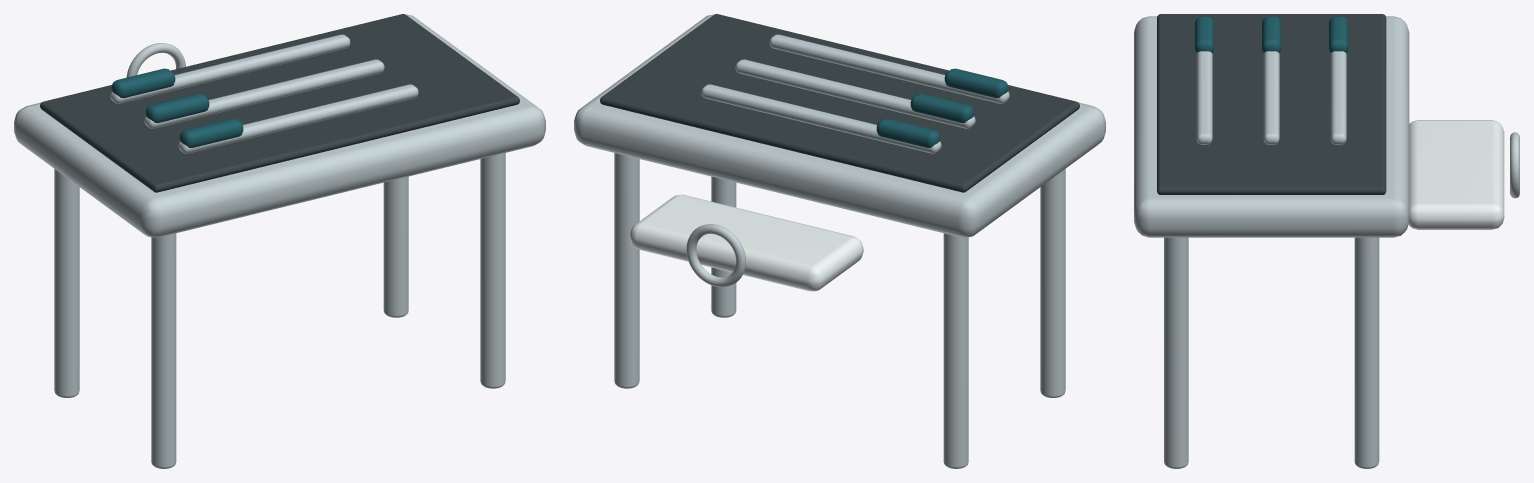
File: Mesa_Instrumental.fbx
3 renders of one model, left to right at view 1: azimuth 30°, elevation 25°; view 2: azimuth 150°, elevation 25°; view 3: azimuth 270°, elevation 25°, orthographic.
Visible parts, largest first — view 1: Alfombrilla_de_silicona, Bandeja_de_instrumental, Pata_de_mesa, Pata_de_mesa_Parte_03, Pata_de_mesa_Parte_02, Pata_de_mesa_Parte_04, Pinza_hemostatica, Bisturi_de_mesa, Tijeras_quirurgicas, Mango_de_Tijeras_quirurgicas, Mango_de_Bisturi_de_mesa, Mango_de_Pinza_hemostatica (+1 smaller); view 2: Alfombrilla_de_silicona, Bandeja_de_instrumental, Bandeja_auxiliar, Pata_de_mesa_Parte_02, Pata_de_mesa_Parte_04, Pata_de_mesa, Pinza_hemostatica, Bisturi_de_mesa, Tijeras_quirurgicas, Asa_de_bandeja, Pata_de_mesa_Parte_03, Mango_de_Bisturi_de_mesa (+2 smaller); view 3: Alfombrilla_de_silicona, Bandeja_de_instrumental, Bandeja_auxiliar, Pata_de_mesa_Parte_04, Pata_de_mesa_Parte_03, Bisturi_de_mesa, Pinza_hemostatica, Tijeras_quirurgicas, Mango_de_Pinza_hemostatica, Mango_de_Tijeras_quirurgicas, Mango_de_Bisturi_de_mesa, Asa_de_bandeja.
Boxes of the visible parts, x1,y1,x2,y2 form: Alfombrilla_de_silicona: [40, 14, 519, 192]; Bandeja_de_instrumental: [14, 14, 545, 237]; Pata_de_mesa: [151, 233, 176, 468]; Pata_de_mesa_Parte_03: [480, 153, 505, 388]; Pata_de_mesa_Parte_02: [54, 169, 79, 397]; Pata_de_mesa_Parte_04: [383, 176, 408, 317]; Pinza_hemostatica: [144, 59, 384, 128]; Bisturi_de_mesa: [178, 84, 418, 153]; Tijeras_quirurgicas: [110, 34, 350, 103]; Mango_de_Tijeras_quirurgicas: [111, 68, 175, 97]; Mango_de_Bisturi_de_mesa: [179, 118, 243, 147]; Mango_de_Pinza_hemostatica: [145, 93, 209, 122]; Alfombrilla_de_silicona: [600, 14, 1079, 192]; Bandeja_de_instrumental: [574, 14, 1105, 237]; Bandeja_auxiliar: [630, 194, 863, 291]; Pata_de_mesa_Parte_02: [943, 233, 968, 468]; Pata_de_mesa_Parte_04: [614, 153, 639, 388]; Pata_de_mesa: [1040, 169, 1065, 397]; Pinza_hemostatica: [735, 59, 975, 128]; Bisturi_de_mesa: [769, 34, 1009, 103]; Tijeras_quirurgicas: [701, 84, 941, 153]; Asa_de_bandeja: [686, 224, 745, 287]; Pata_de_mesa_Parte_03: [711, 176, 736, 317]; Mango_de_Bisturi_de_mesa: [944, 68, 1008, 97]; Alfombrilla_de_silicona: [1157, 14, 1386, 194]; Bandeja_de_instrumental: [1134, 16, 1409, 237]; Bandeja_auxiliar: [1408, 120, 1504, 229]; Pata_de_mesa_Parte_04: [1354, 237, 1379, 468]; Pata_de_mesa_Parte_03: [1164, 237, 1188, 468]; Bisturi_de_mesa: [1196, 51, 1212, 144]; Pinza_hemostatica: [1263, 51, 1279, 144]; Tijeras_quirurgicas: [1330, 51, 1346, 144]; Mango_de_Pinza_hemostatica: [1262, 16, 1281, 53]; Mango_de_Tijeras_quirurgicas: [1329, 16, 1348, 53]; Mango_de_Bisturi_de_mesa: [1195, 16, 1214, 53]; Asa_de_bandeja: [1510, 132, 1519, 198].
Bounding box in the file's own units: 1.3 × 0.965 × 1.09.
